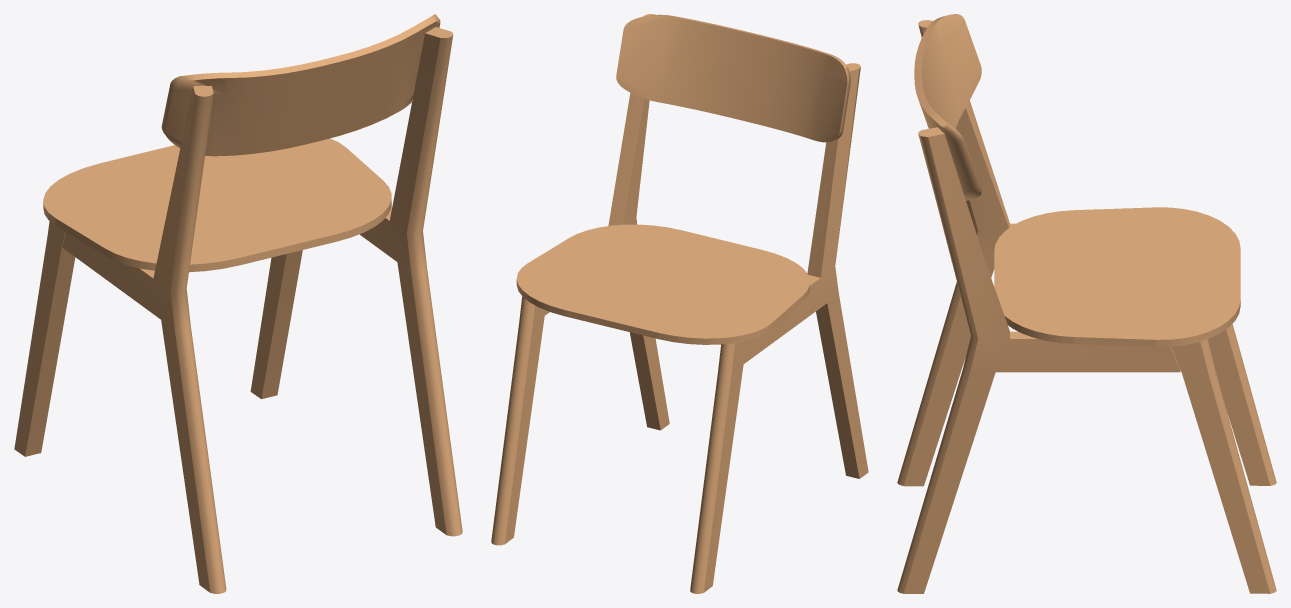
File: silla_madera.fbx
3 views of the same model, side by side, from view 1: azimuth 30°, elevation 25°; view 2: azimuth 150°, elevation 25°; view 3: azimuth 270°, elevation 25° (orthographic). The views are drawn at different scales.
Parts seen in each view (by area): view 1: Cube.004, Cube.005, Cube.003, Cube, Cube.002, Cube.001; view 2: Cube.004, Cube.005, Cube.003, Cube.002, Cube.001, Cube; view 3: Cube.004, Cube, Cube.003, Cube.001, Cube.005, Cube.002.
Part boxes in pixels (x1,y1,x2,y2): Cube.004: (43,138,391,272); Cube.005: (161,14,440,156); Cube.003: (62,85,226,593); Cube: (359,27,462,536); Cube.002: (14,221,75,456); Cube.001: (250,250,302,399); Cube.004: (516,224,809,344); Cube.005: (616,14,850,142); Cube.003: (743,63,868,478); Cube.002: (690,340,747,593); Cube.001: (491,296,545,545); Cube: (545,14,669,430); Cube.004: (994,207,1240,346); Cube: (897,127,1180,593); Cube.003: (897,20,1015,486); Cube.001: (1171,339,1276,593); Cube.005: (914,14,981,200); Cube.002: (1208,324,1276,485).
Size of the model in its own units: 293 by 483 by 354.
